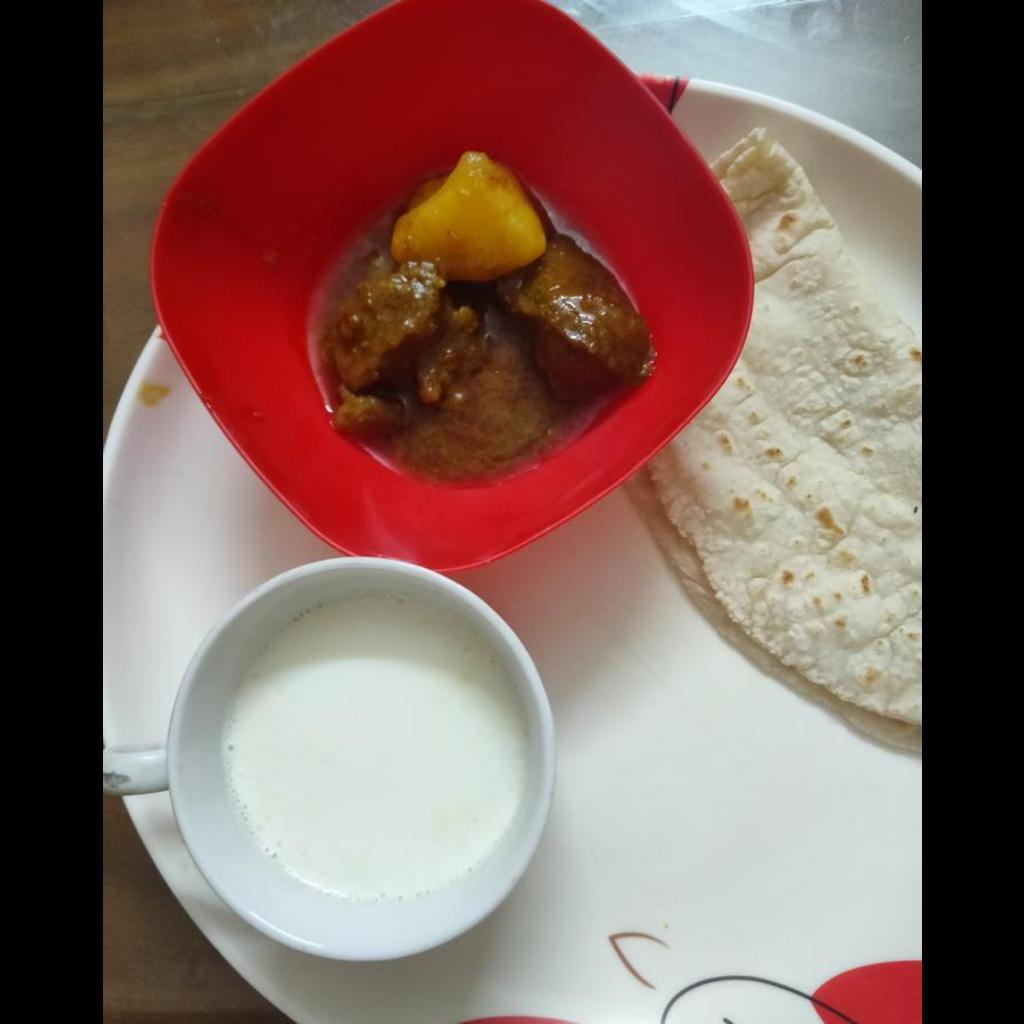beef: (327, 237, 645, 428)
milk: (221, 590, 526, 903)
potato: (389, 152, 546, 281)
ruti: (621, 133, 920, 754)
